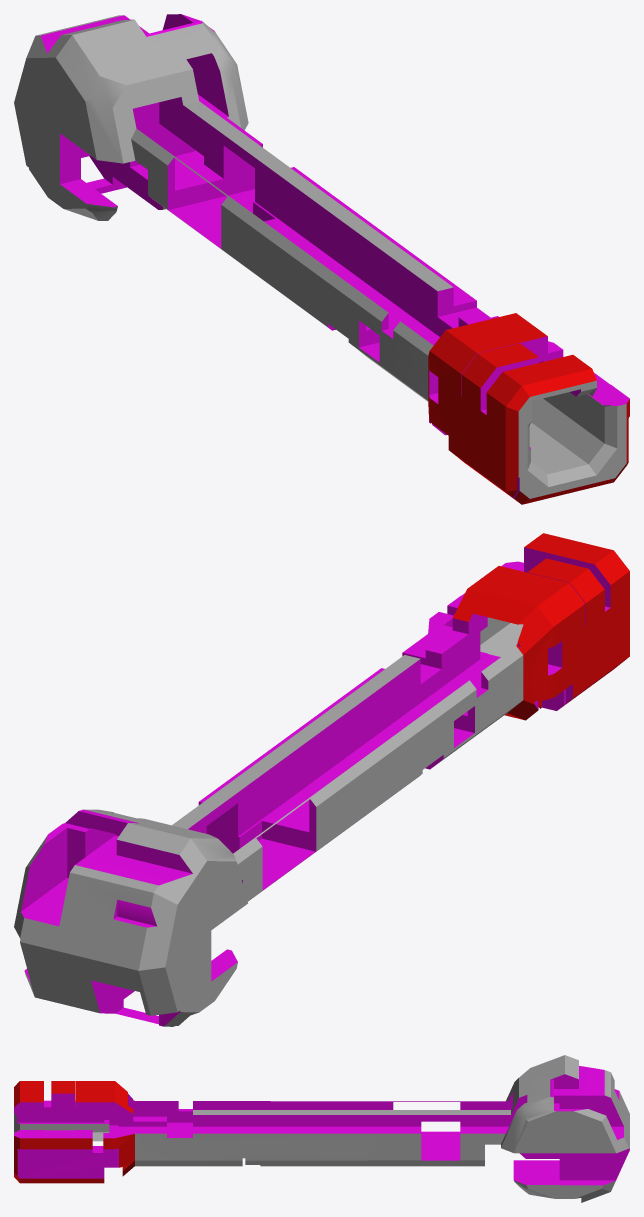
The model's file is Enemy_TurretBarrel_Glitch.fbx.
3 views of the same model, one above another, from view 1: azimuth 30°, elevation 25°; view 2: azimuth 150°, elevation 25°; view 3: azimuth 270°, elevation 25° (orthographic). The views are drawn at different scales.
Visible parts, largest first — view 1: Enemy_Turret_Barrel5; view 2: Enemy_Turret_Barrel5; view 3: Enemy_Turret_Barrel5.
Part boxes in pixels (<box>): Enemy_Turret_Barrel5: <box>14,14,629,504</box>; Enemy_Turret_Barrel5: <box>14,533,629,1026</box>; Enemy_Turret_Barrel5: <box>14,1055,629,1202</box>.
Size of the model in its own units: 0.6434 by 0.7237 by 3.62.
